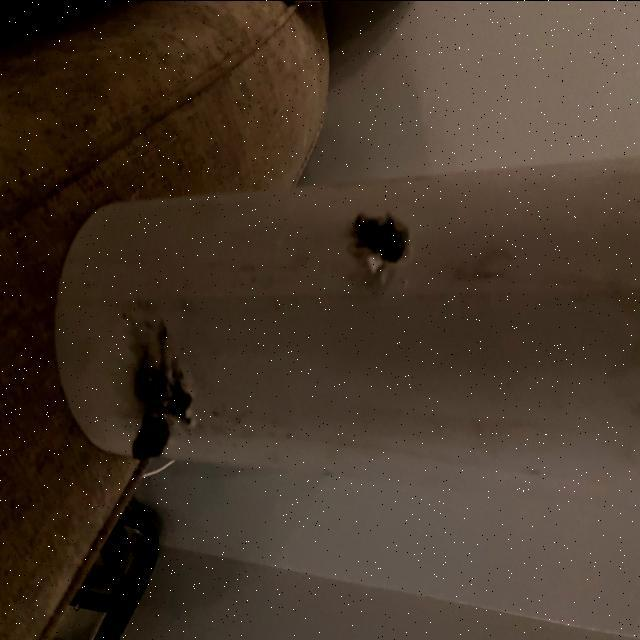Hole: (341, 194, 423, 290), (127, 347, 203, 427)
